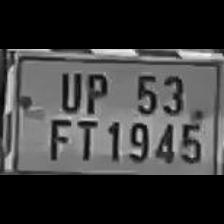1: (100, 116, 122, 162)
3: (159, 68, 185, 116)
4: (152, 118, 174, 164)
5: (132, 68, 158, 114), (176, 118, 202, 164)
9: (124, 116, 150, 162)
F: (44, 114, 72, 162)
P: (80, 68, 110, 113)
T: (72, 116, 98, 162)
U: (53, 67, 83, 113)
